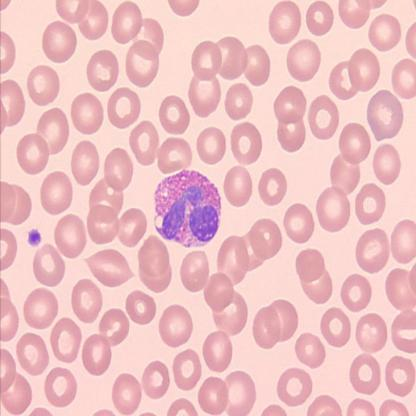Eosinophil: (153, 168, 222, 246)
